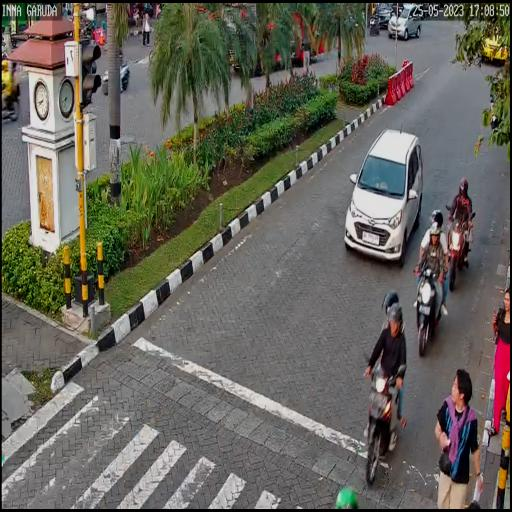mobil: (344, 128, 424, 264)
motor: (360, 356, 408, 488), (412, 267, 446, 358), (444, 200, 475, 292)
